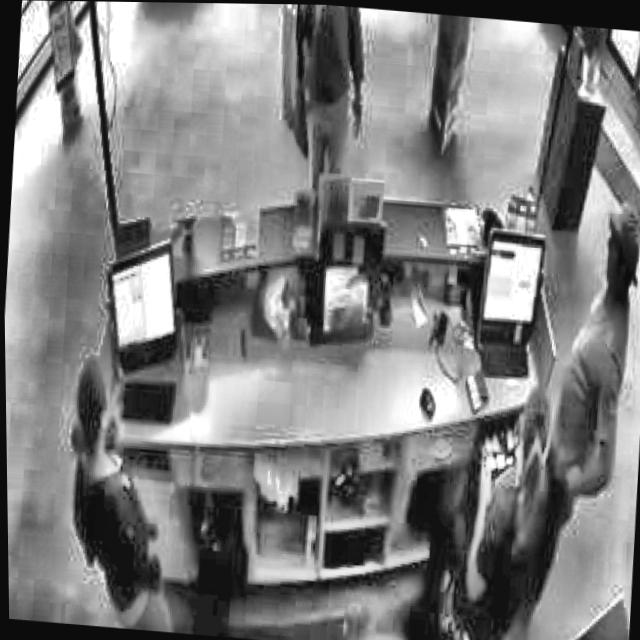robbery: (276, 3, 378, 204)
